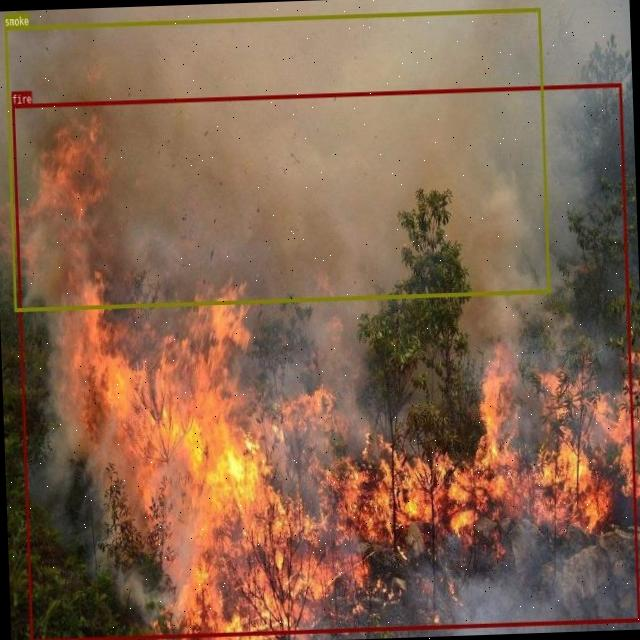fire: (11, 82, 639, 640)
smoke: (3, 7, 550, 311)
